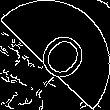O_SW: (22, 22, 88, 88)
